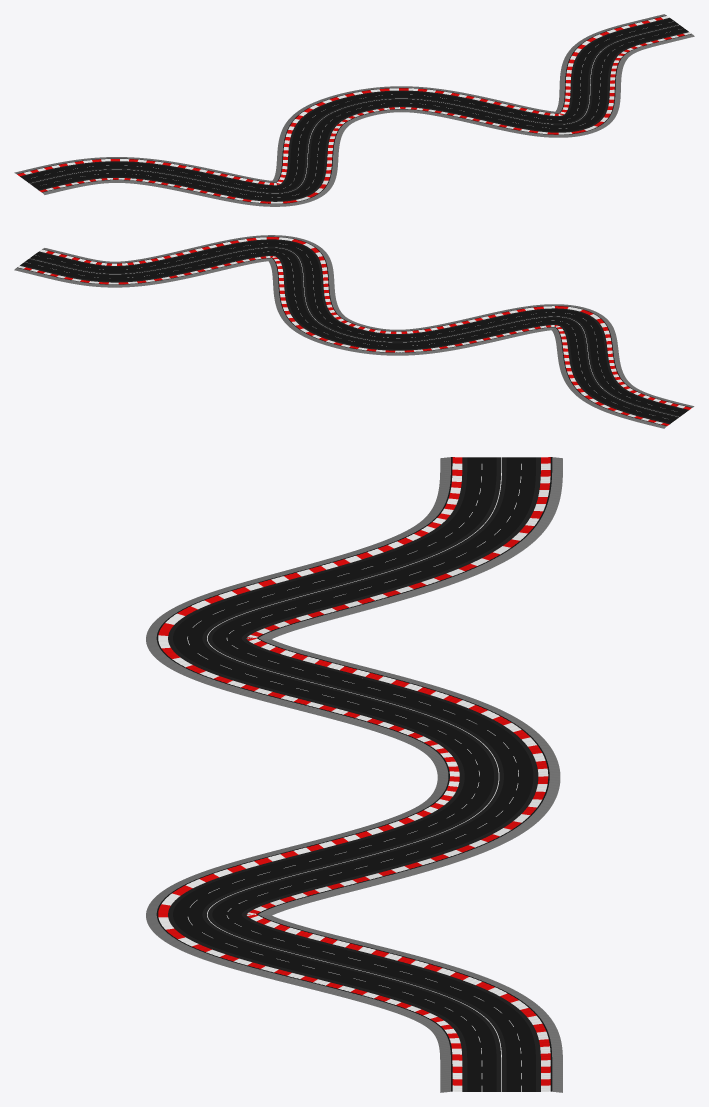
Rendered from S0.1c1-Wee2.glb.
3 renders of one model, top to bottom at view 1: azimuth 30°, elevation 25°; view 2: azimuth 150°, elevation 25°; view 3: azimuth 270°, elevation 25°, orthographic. The views are drawn at different scales.
Parts seen in each view (by area): view 1: Grid; view 2: Grid; view 3: Grid.
Boxes of the visible parts, x1,y1,x2,y2 form: Grid: (14,14,694,206); Grid: (14,235,694,428); Grid: (146,457,562,1092).
Bounding box in the file's own units: 306 × 0.31 × 84.89.
